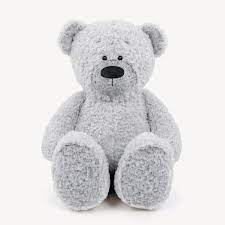teddy: (33, 14, 194, 216)
